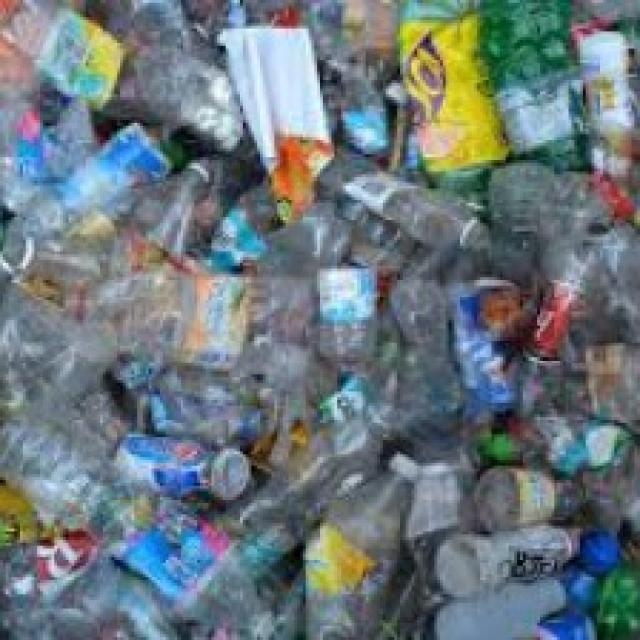heap: (33, 106, 634, 640)
plastic_bottle: (291, 453, 422, 624), (321, 148, 499, 266), (483, 1, 592, 171), (21, 114, 166, 232), (521, 230, 607, 410), (113, 420, 253, 520), (433, 573, 606, 640), (391, 280, 467, 428), (313, 261, 380, 367)
